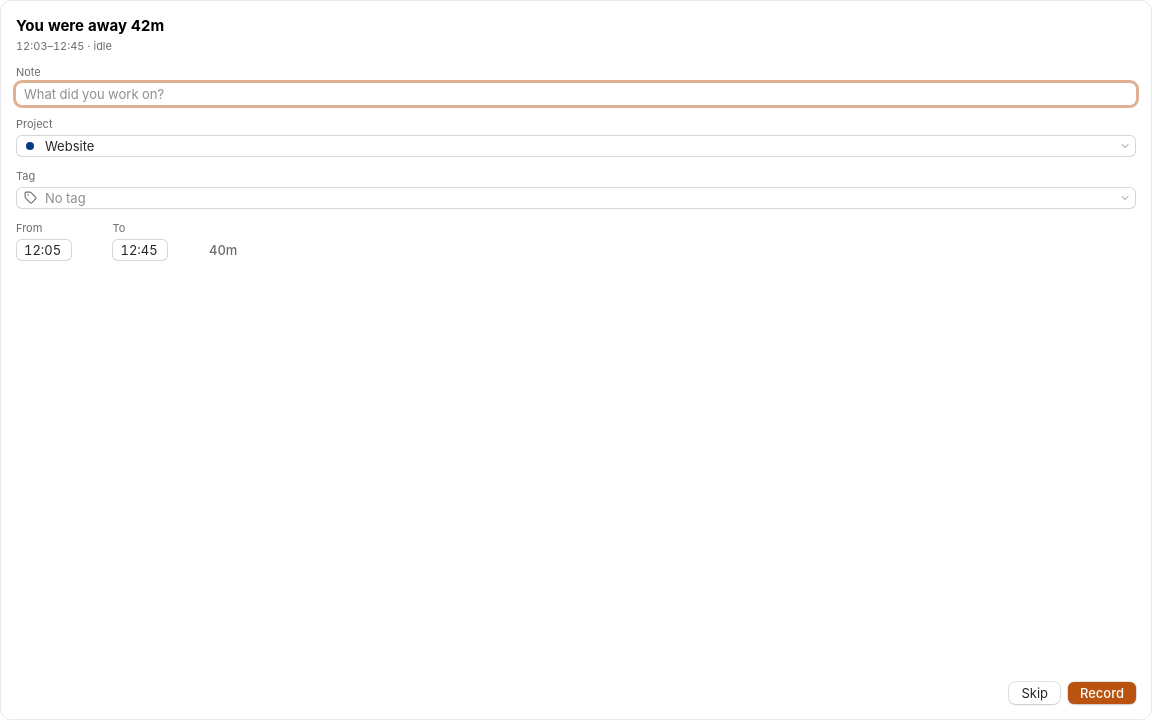
Test case: AwayPrompt › errors › lists every recording in the way
The width and height of the screenshot is (1152, 720).
Expected: the dropdown named "project" is shown, 45,135 -> 1106,157
Click the button "Record": (1102, 693) 1068,682 -> 1136,704
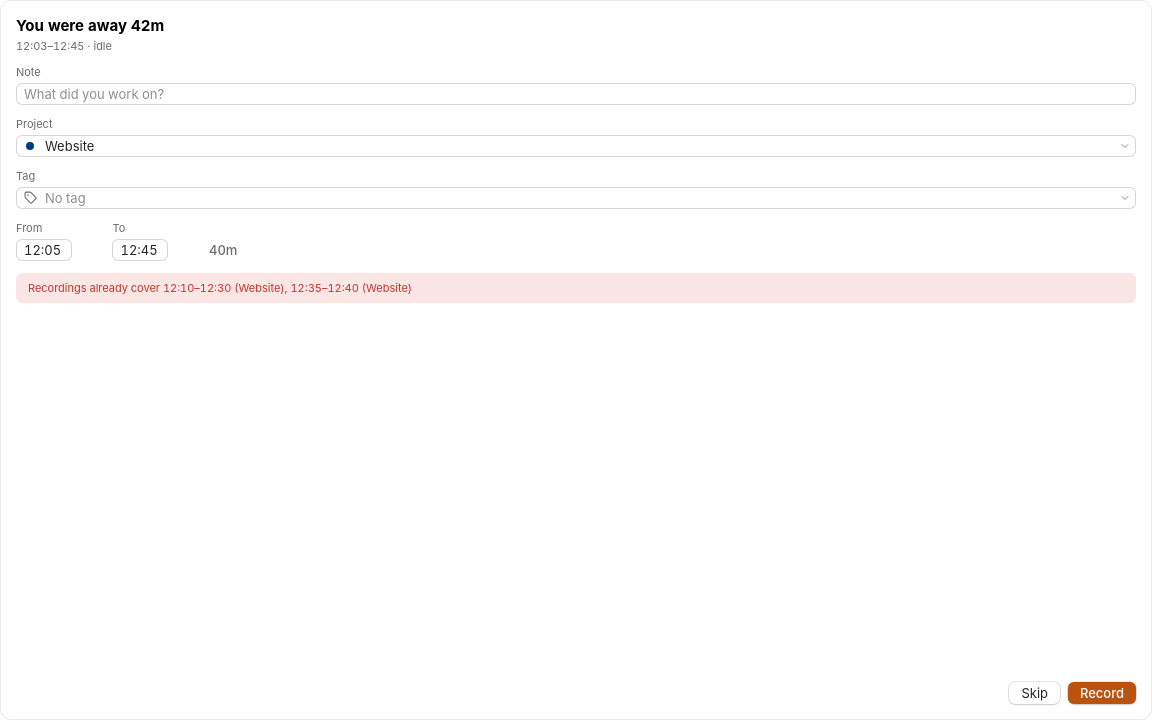
Result: the message reads "Recordings already cover 12:10–12:30 (Website), 12:35–12:40 (Website)" at 28,281 -> 412,295
